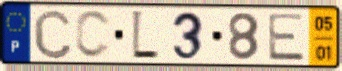3: (170, 9, 210, 63)
8: (226, 11, 261, 62)
C: (31, 7, 74, 62), (73, 8, 113, 60)
E: (266, 12, 308, 63)
L: (130, 8, 162, 63)
